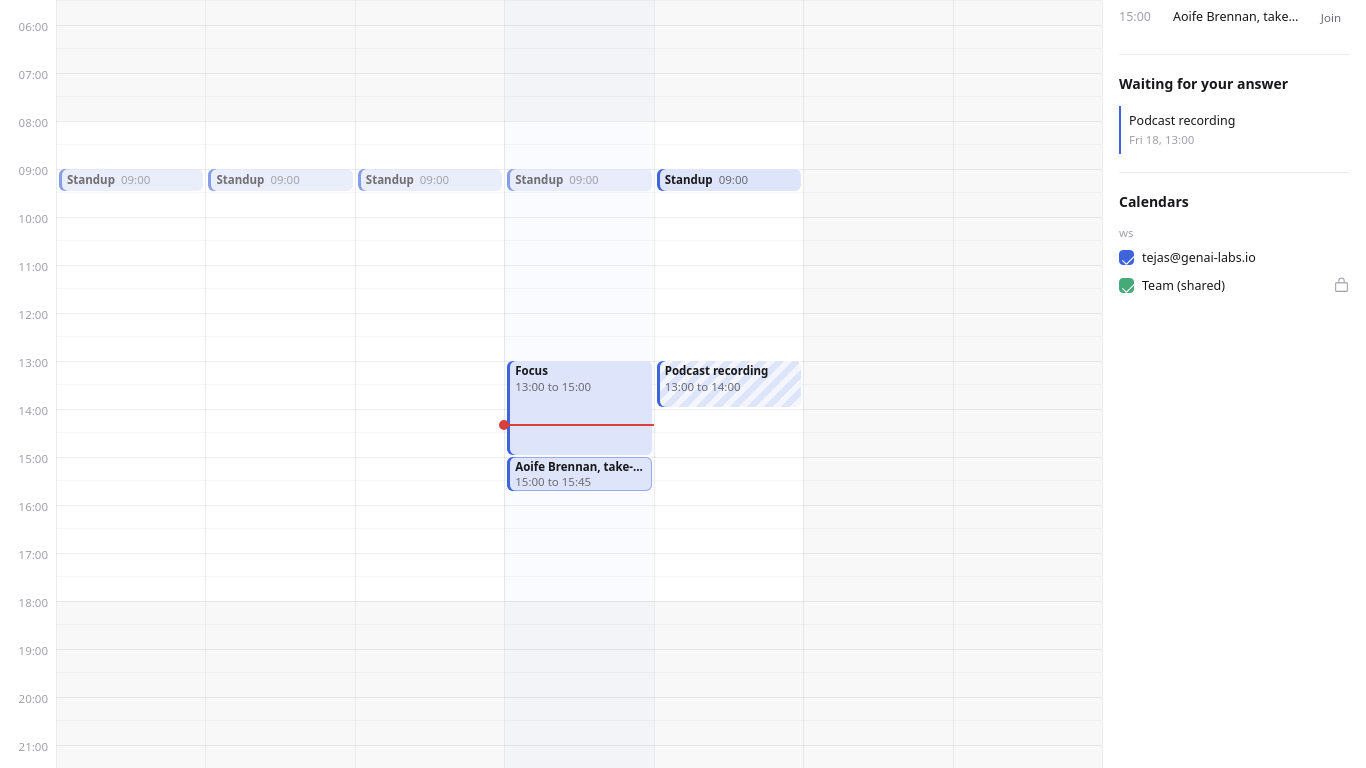
Test: the Calendar screen › clicking another Event while one is open moves the popover to it without closing it first
(page scrolled)
Press the mouse on the 7th button with class "cal-block": (729, 384) [657,361,801,407]
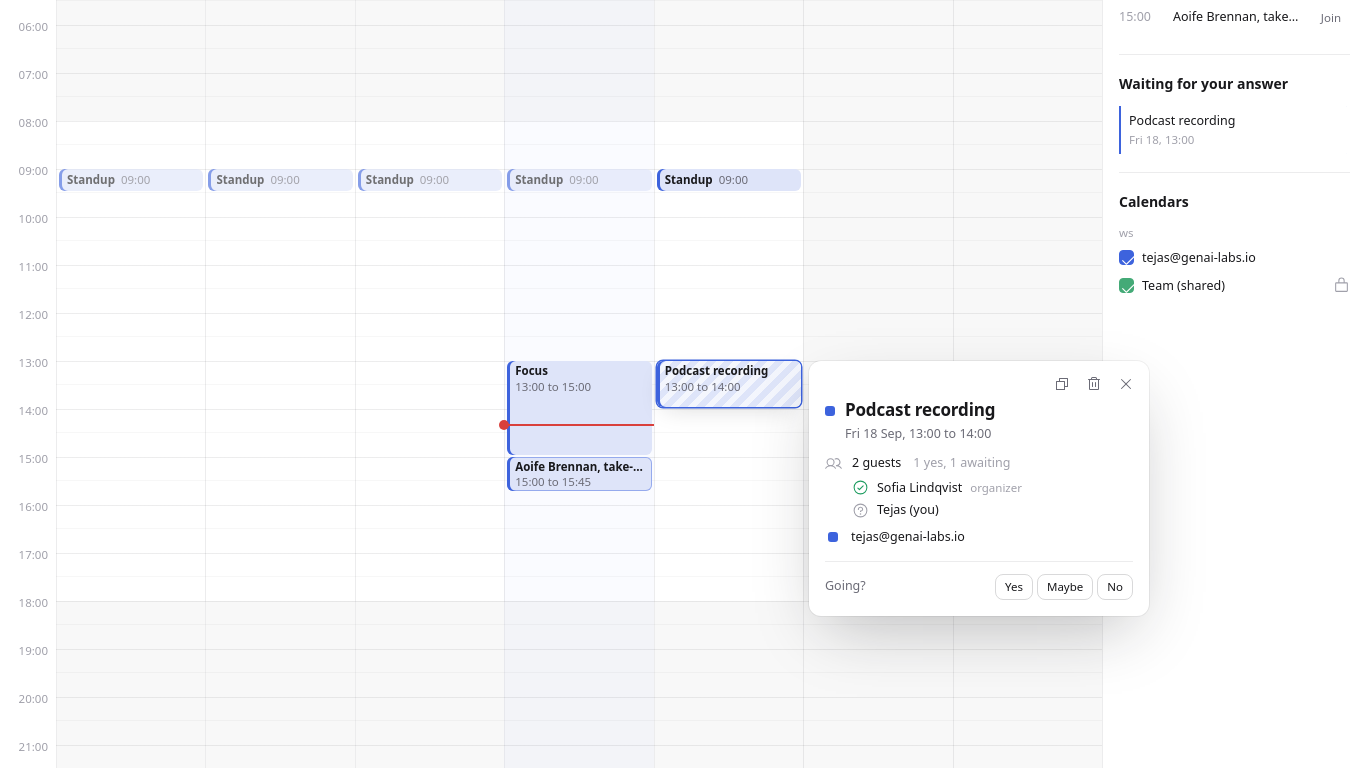
Now the heading "Podcast recording" is shown, box [845,399,995,421]
Press the mouse on the 8th button with class "cal-block": (580, 474) [507,457,652,491]
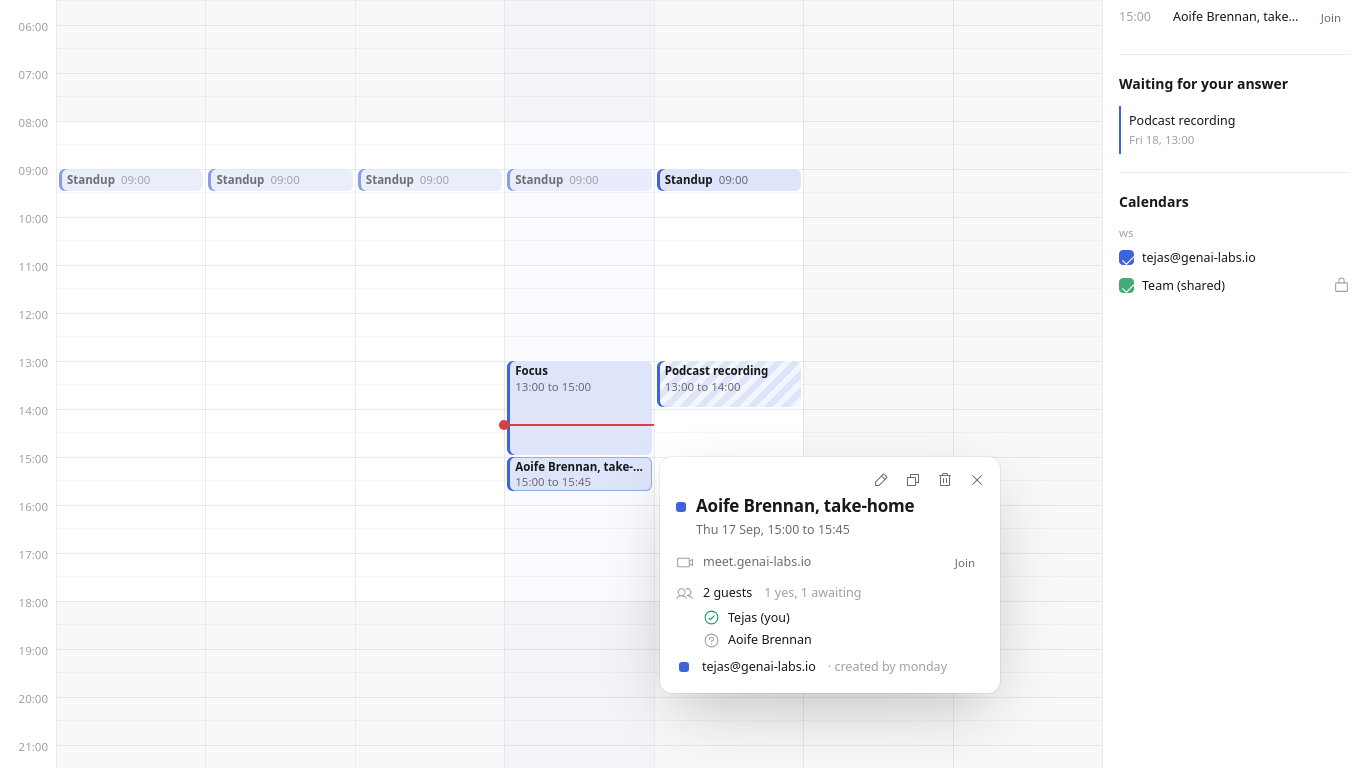
Now the heading "Aoife Brennan, take-home" is shown, box [696,495,914,517]
